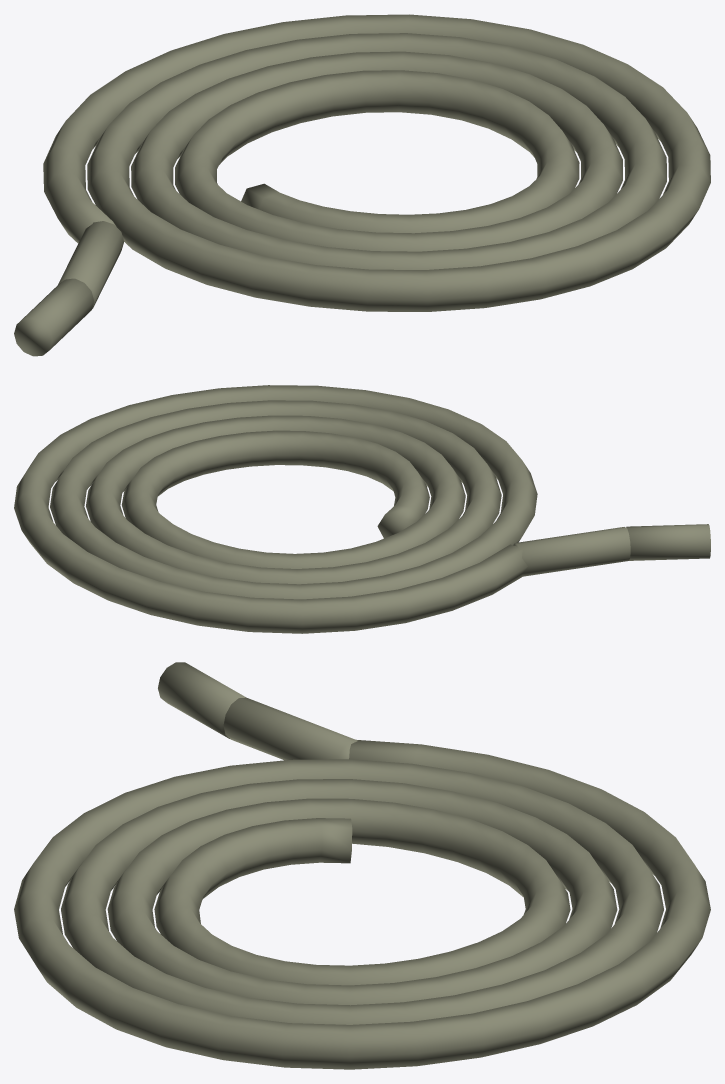
Rendered from RopeCoil02.fbx.
The picture shows the model from 3 angles, top to bottom: view 1: azimuth 30°, elevation 25°; view 2: azimuth 150°, elevation 25°; view 3: azimuth 270°, elevation 25°; orthographic projection. The views are drawn at different scales.
Visible parts, largest first — view 1: RopeCoil02; view 2: RopeCoil02; view 3: RopeCoil02.
Part boxes in pixels (box(x1,y1,x2,y2)): RopeCoil02: box(14, 14, 710, 356); RopeCoil02: box(14, 385, 710, 633); RopeCoil02: box(14, 662, 710, 1069).
Size of the model in its own units: 71.97 by 3.76 by 55.85.
